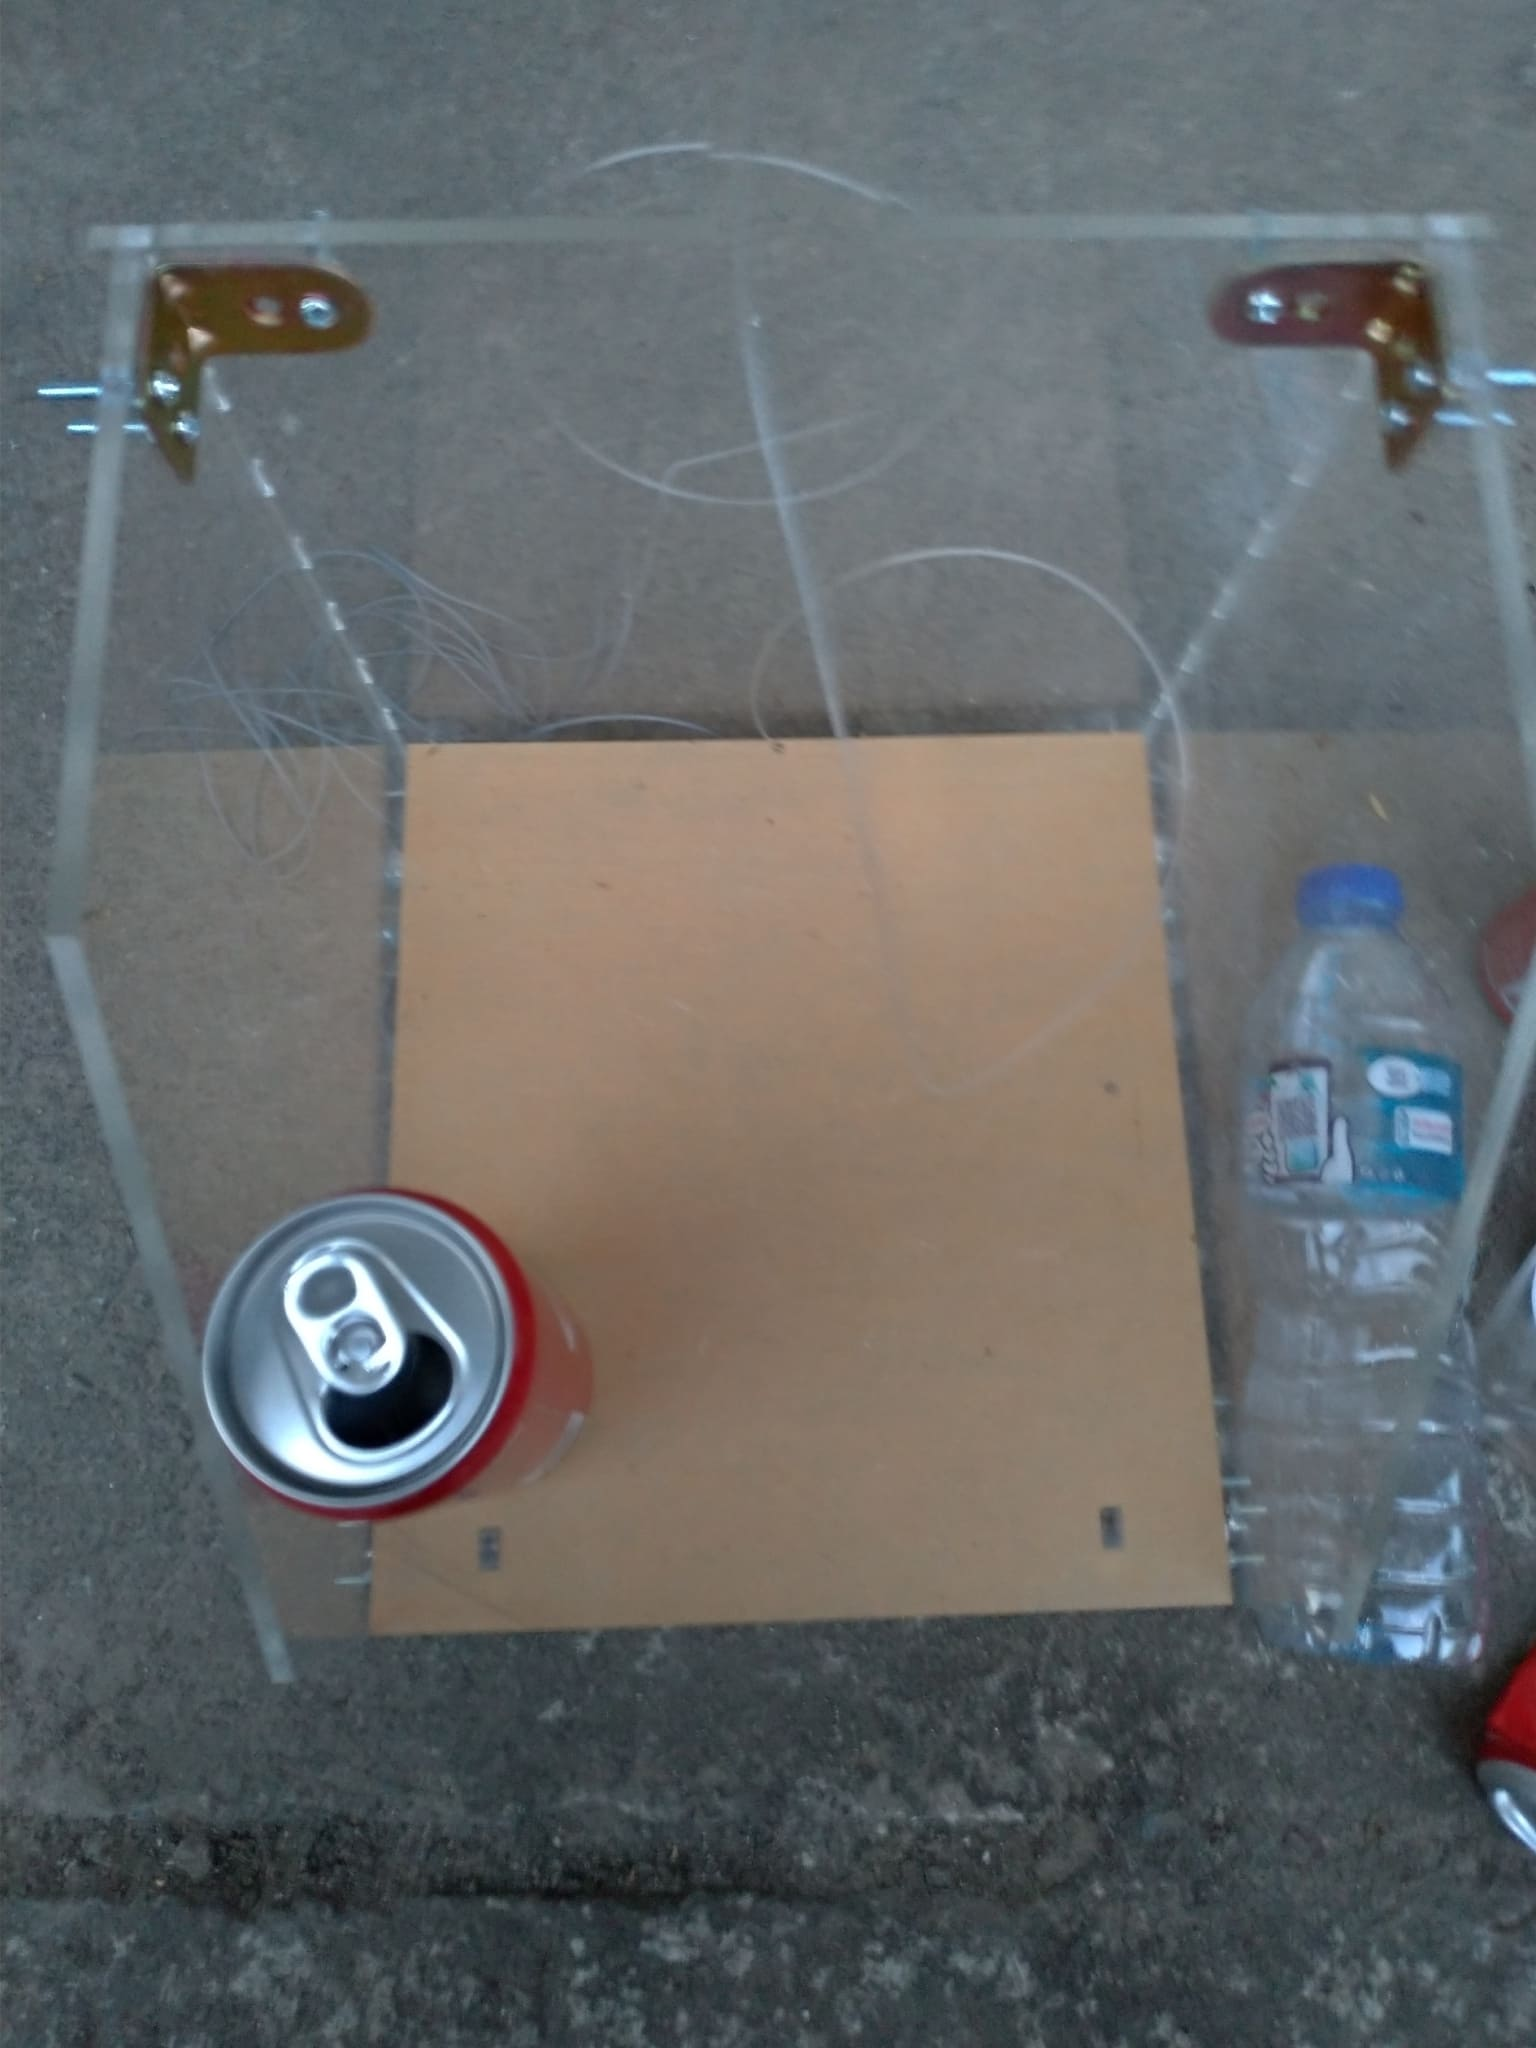AlCan: (203, 1180, 600, 1522)
PlasticBottle: (1233, 851, 1483, 1680)
